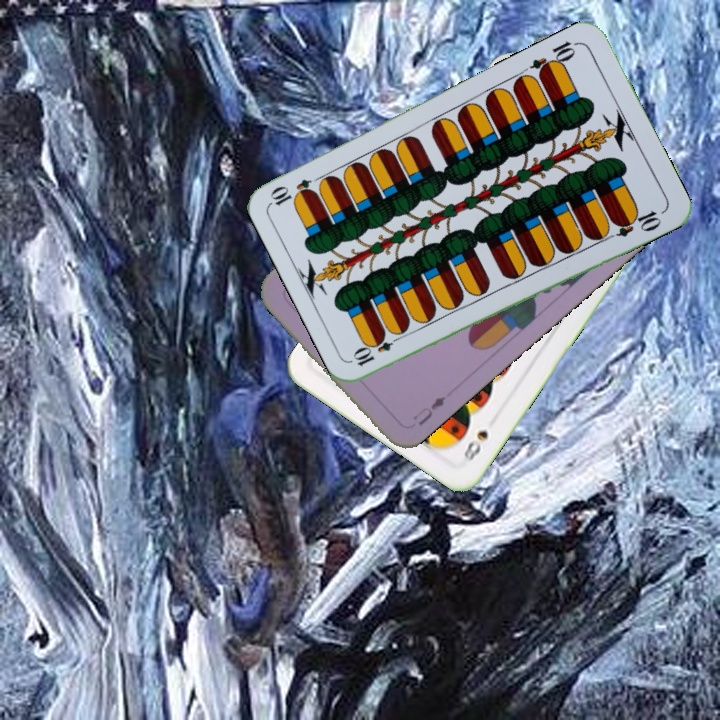E10: (526, 37, 581, 80), (349, 329, 405, 369)
EU: (408, 392, 448, 429)
S8: (459, 426, 491, 464)
